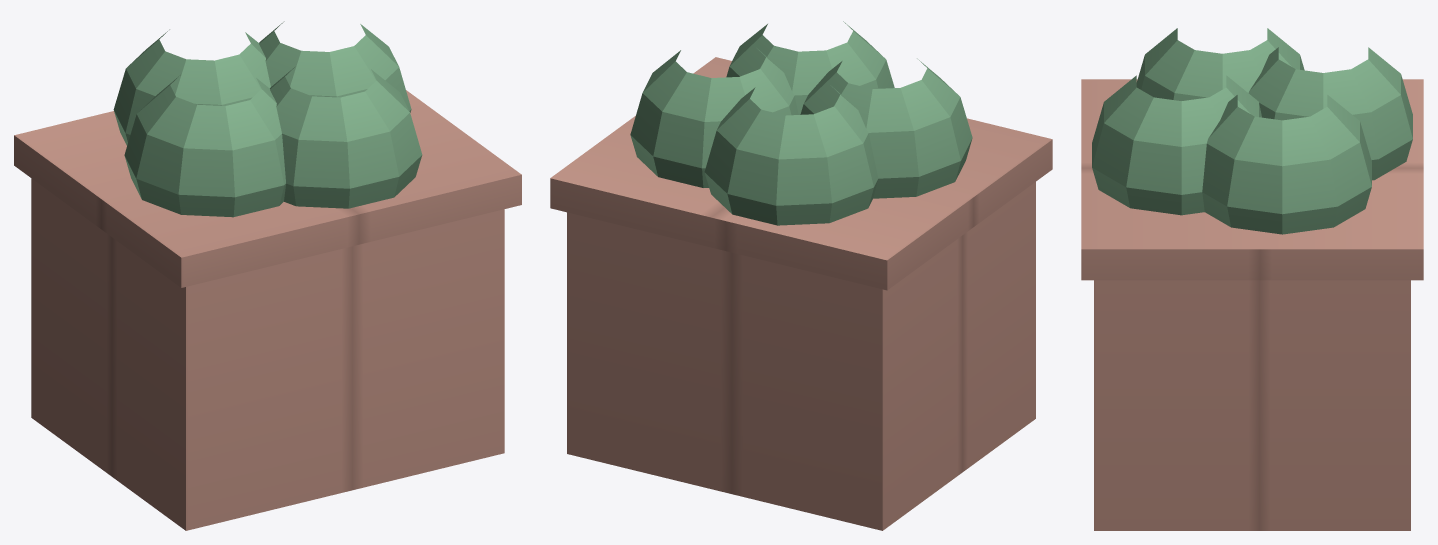
File: flower_pot.glb
The picture shows the model from 3 angles, left to right: view 1: azimuth 30°, elevation 25°; view 2: azimuth 150°, elevation 25°; view 3: azimuth 270°, elevation 25°; orthographic projection. The views are drawn at different scales.
Parts seen in each view (by area): view 1: flower_pot; view 2: flower_pot; view 3: flower_pot.
Part boxes in pixels (x1,y1,x2,y2): flower_pot: [14, 21, 521, 530]; flower_pot: [550, 21, 1052, 530]; flower_pot: [1081, 28, 1423, 530].
Bounding box in the file's own units: 0.94 × 1.02 × 0.8.
1 material, 1 textured.
